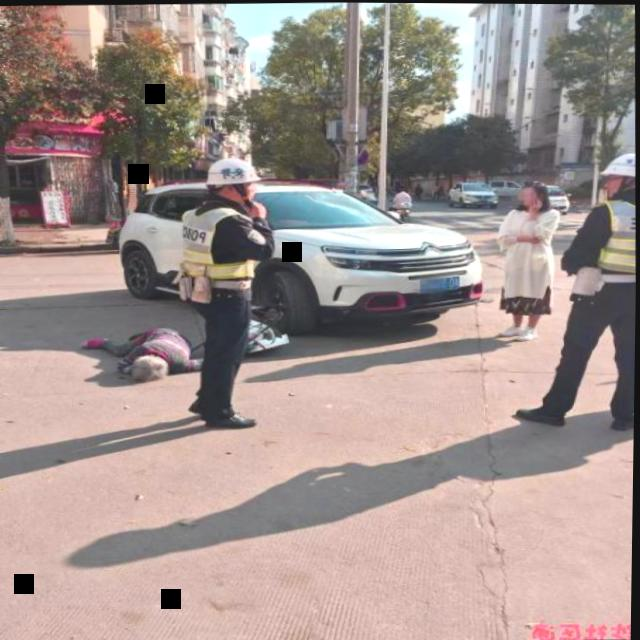Fall-Detected: (73, 307, 213, 395)
